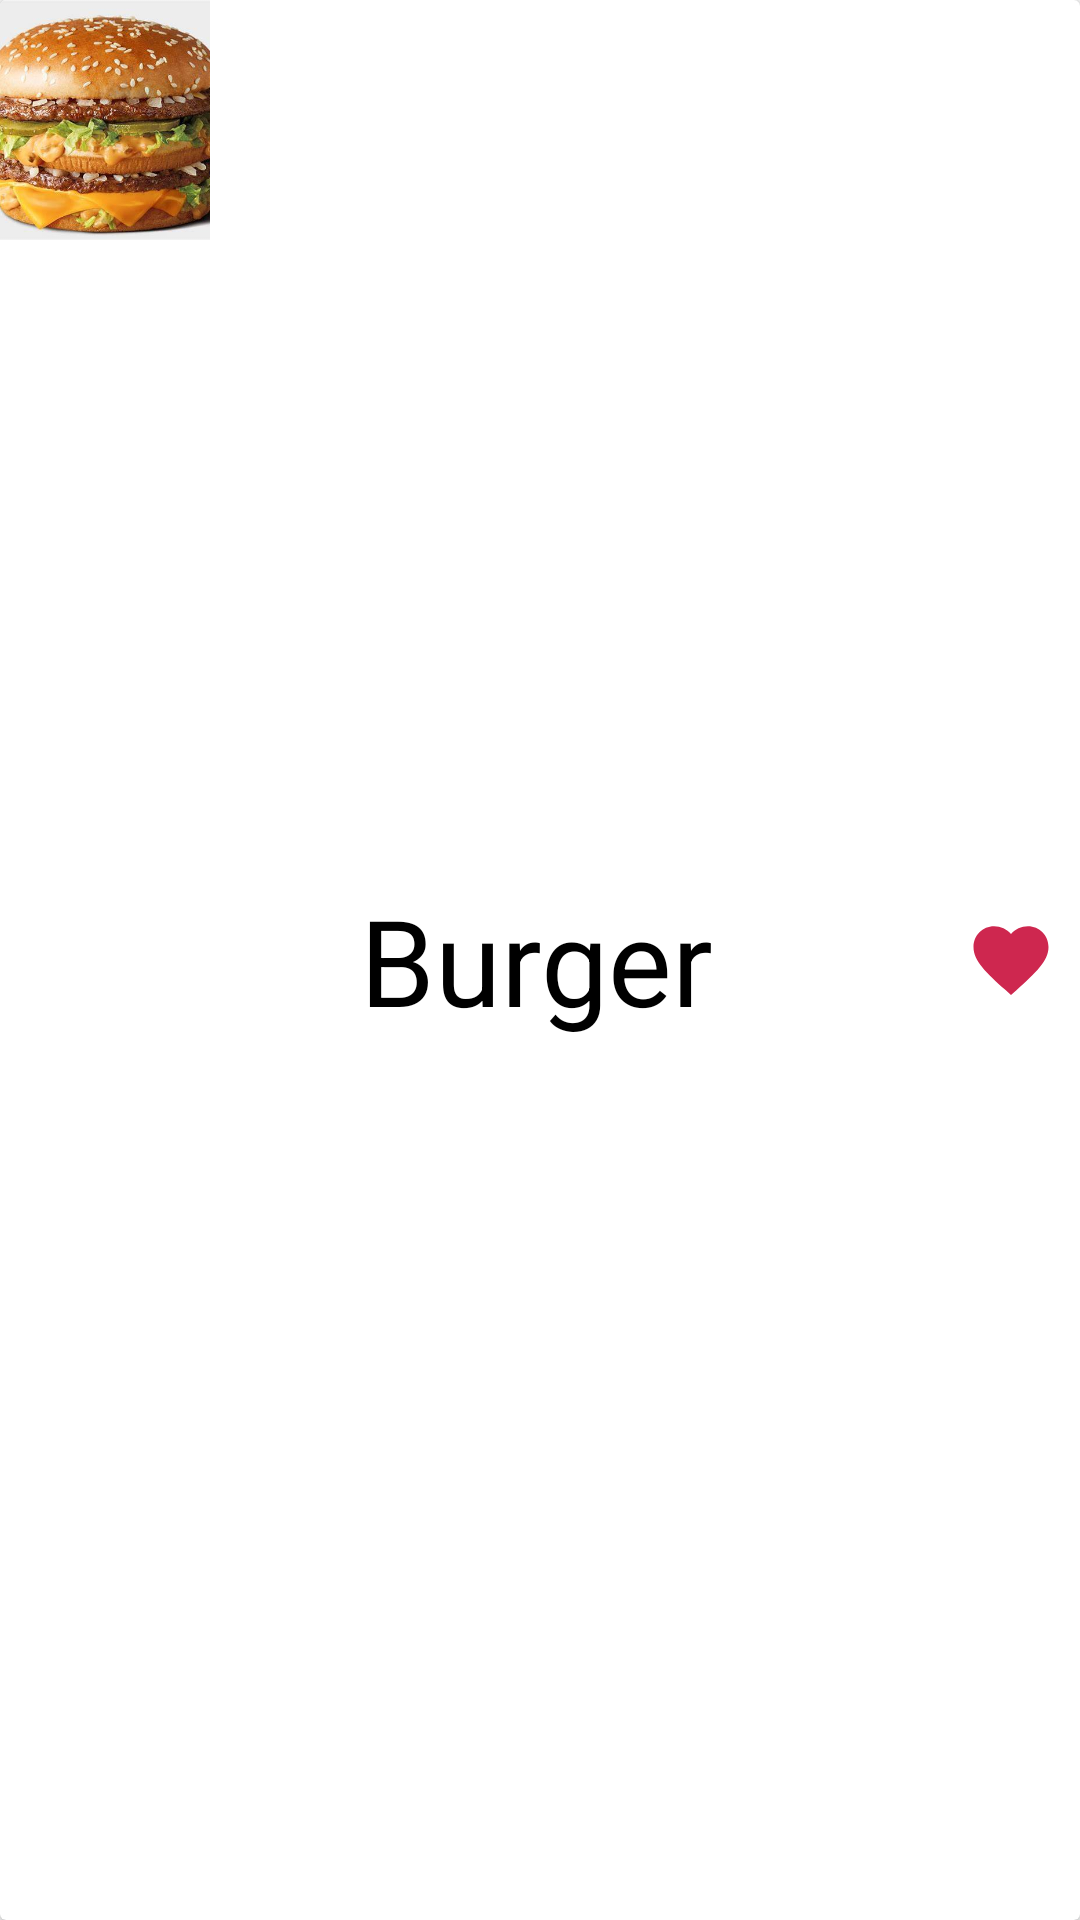

Icon bounding boxes for this 1080×1920 phone screenshot, format bbox=(x1, y1, x2, y2):
burger: bbox=(0, 0, 210, 236)
favorite: bbox=(973, 926, 1049, 995)
